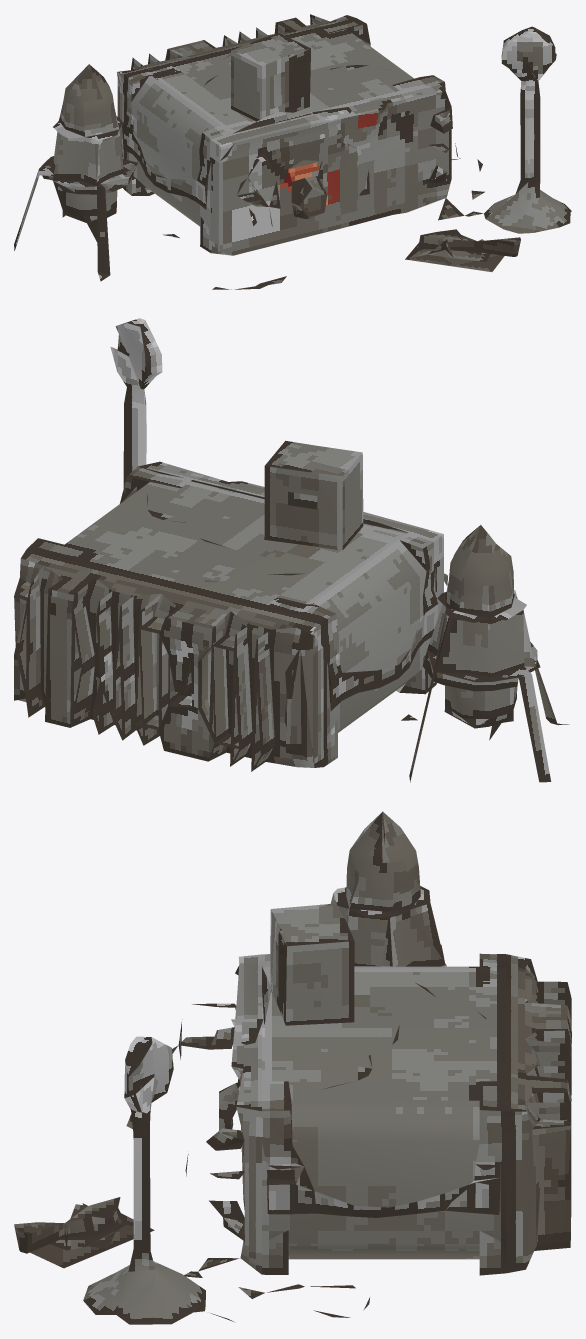
File: vintage_radio_transceiver.glb
3 views of the same model, one above another, from view 1: azimuth 30°, elevation 25°; view 2: azimuth 150°, elevation 25°; view 3: azimuth 270°, elevation 25° (orthographic). The views are drawn at different scales.
Visible parts, largest first — view 1: mesh; view 2: mesh; view 3: mesh.
Part boxes in pixels (bbox=[...]): mesh: bbox=[14, 14, 571, 289]; mesh: bbox=[14, 318, 569, 782]; mesh: bbox=[14, 811, 571, 1324].
Size of the model in its own units: 1.09 by 0.4344 by 0.8252.
1 material, 1 textured.
